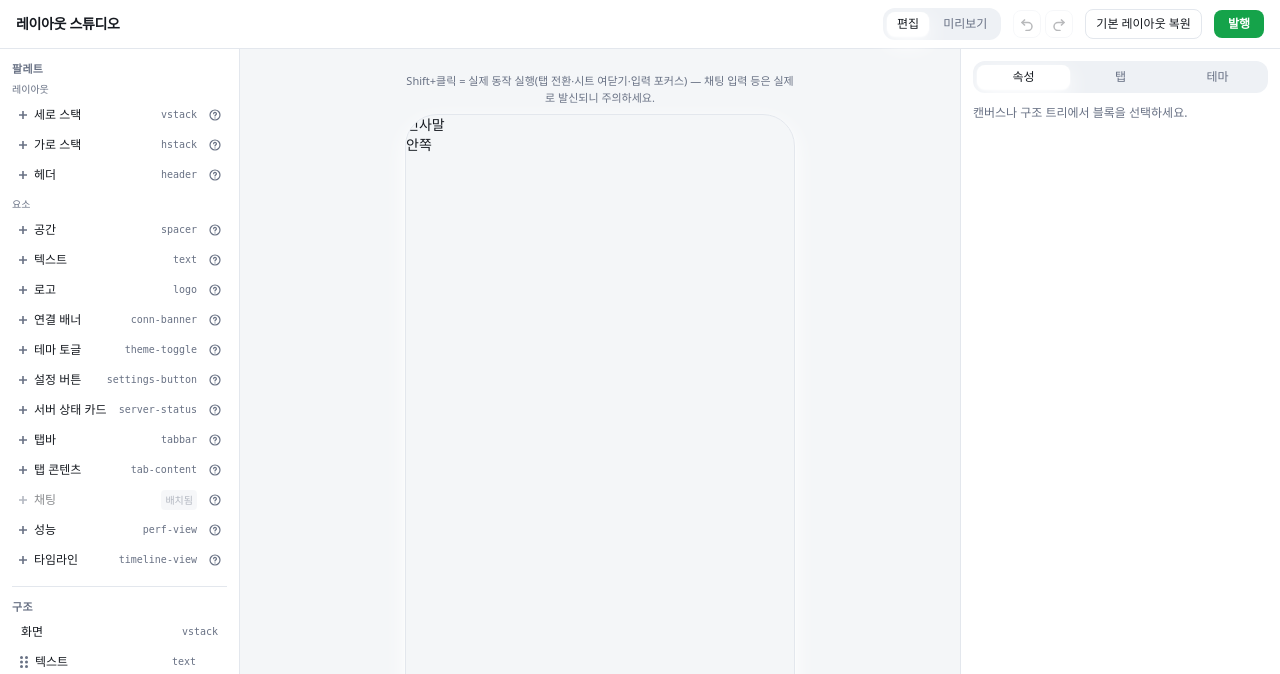
it: StudioApp (T6.3 — 우클릭 컨텍스트 메뉴 배선) › 복제: 대상의 사본이 바로 뒤 형제로 삽입된다
Right-click the text "인사말" at (425, 124), box 406,115 -> 445,134
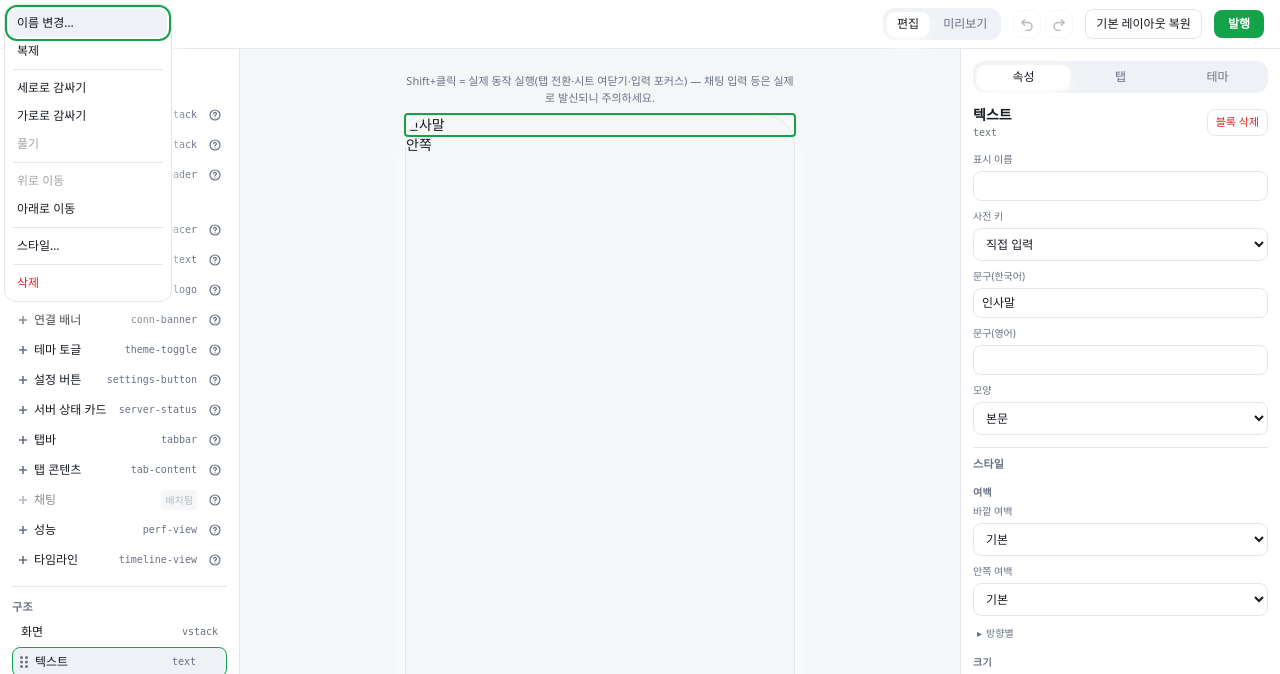
Click the menu item "복제" at (88, 51), box 9,37 -> 167,65
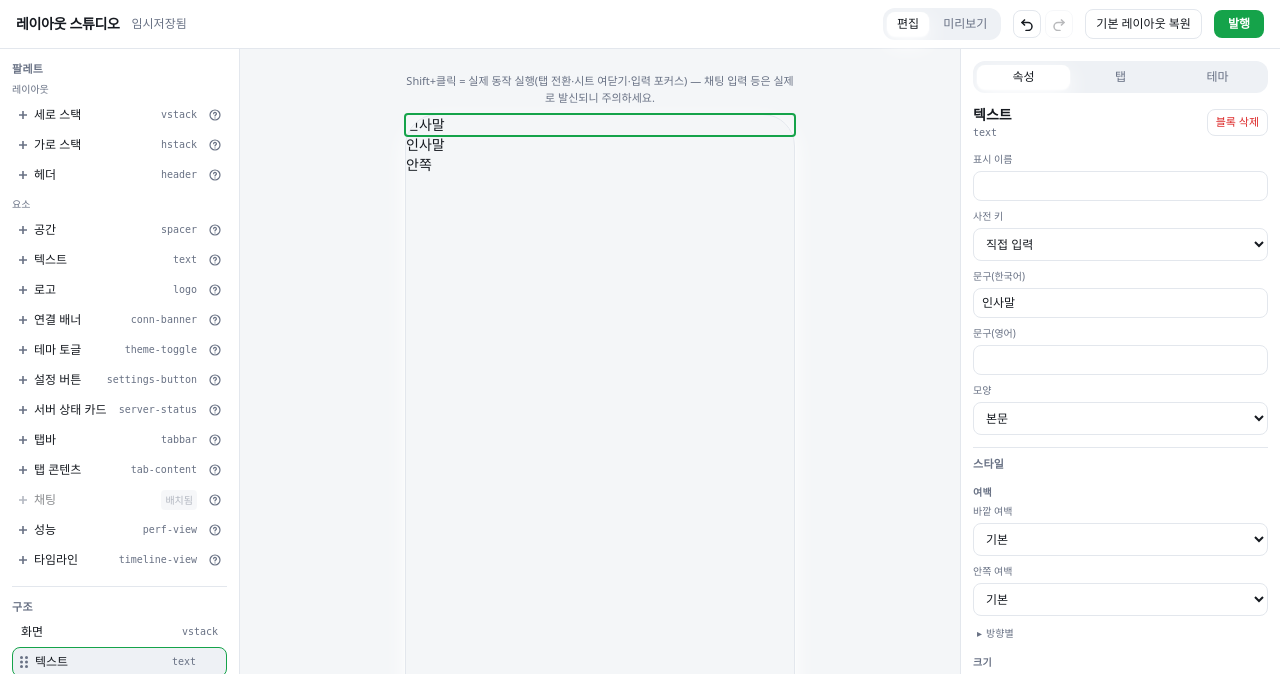
Check: the text "인사말" is shown 2 times, box 406,115 -> 445,134; 406,135 -> 445,154
Check: the menu is gone
